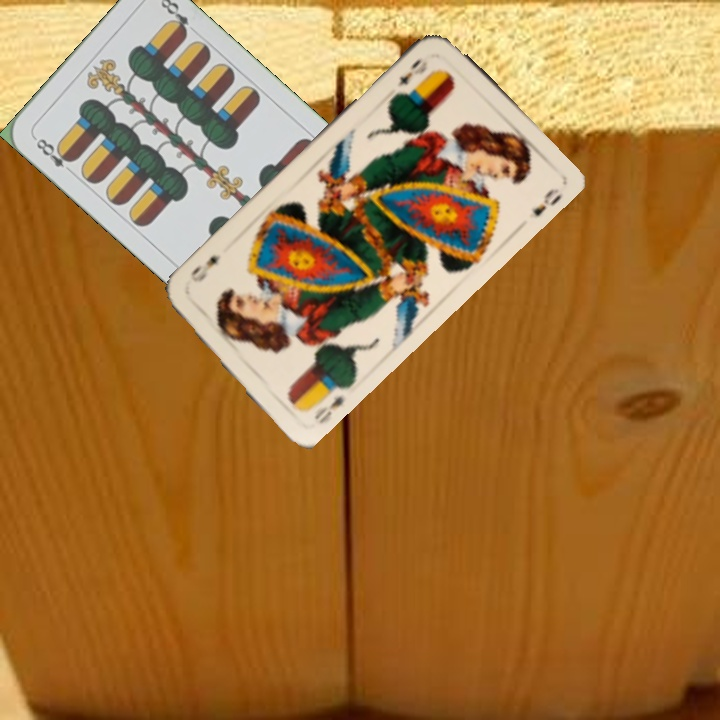E8: (29, 132, 77, 177)
EO: (310, 391, 347, 427), (394, 54, 430, 90)
